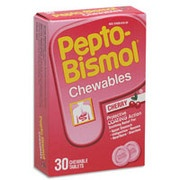grozi_97: (33, 5, 145, 177)
